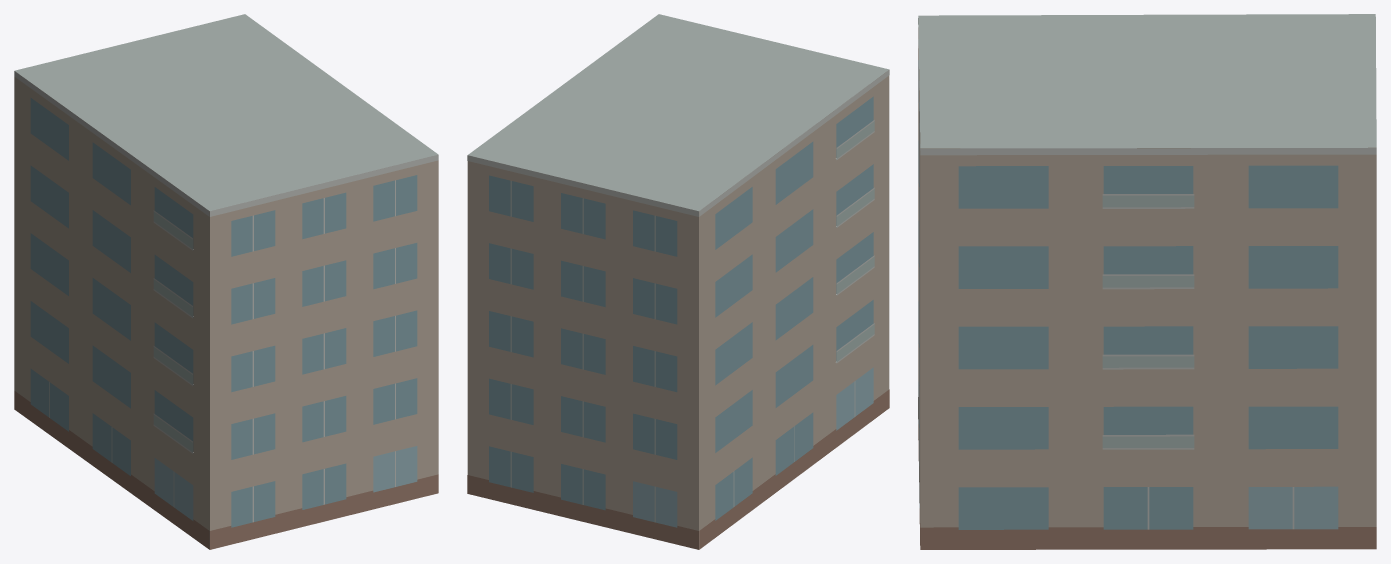
The model's file is survey-upis-32943308.glb.
3 views of the same model, side by side, from view 1: azimuth 30°, elevation 25°; view 2: azimuth 150°, elevation 25°; view 3: azimuth 270°, elevation 25° (orthographic). The views are drawn at different scales.
Visible parts, largest first — view 1: survey-upis-32943308.tmp; view 2: survey-upis-32943308.tmp; view 3: survey-upis-32943308.tmp.
Boxes of the visible parts, x1,y1,x2,y2 form: survey-upis-32943308.tmp: (14, 14, 438, 549); survey-upis-32943308.tmp: (467, 14, 889, 549); survey-upis-32943308.tmp: (918, 14, 1376, 549).
Bounding box in the file's own units: 10.36 × 14.4 × 14.91.
